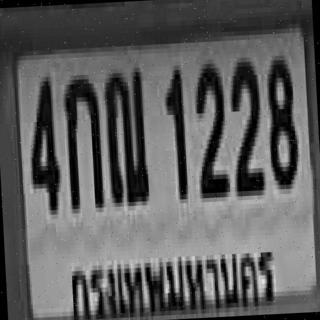A01: (61, 70, 102, 209)
A19: (102, 63, 148, 202)
N01: (162, 63, 186, 197)
N02: (193, 59, 227, 194), (228, 55, 262, 190)
N04: (26, 72, 60, 211)
N08: (264, 51, 298, 185)
